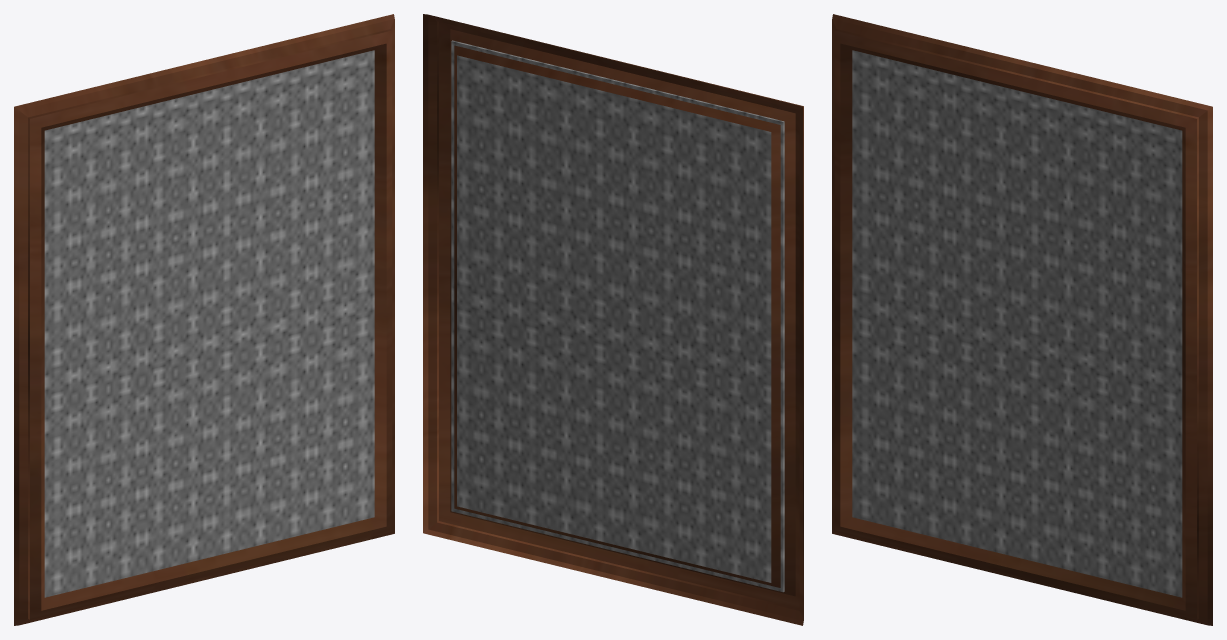
File: Picture_1.fbx
The picture shows the model from 3 angles, left to right: view 1: azimuth 30°, elevation 25°; view 2: azimuth 150°, elevation 25°; view 3: azimuth 330°, elevation 25°; orthographic projection.
Visible parts, largest first — view 1: polySurface3066, polySurface3065; view 2: polySurface3066, polySurface3065; view 3: polySurface3066, polySurface3065.
Boxes of the visible parts, x1=… form: polySurface3066: x1=44, y1=50, x2=374, y2=597; polySurface3065: x1=14, y1=14, x2=394, y2=625; polySurface3066: x1=451, y1=40, x2=784, y2=592; polySurface3065: x1=423, y1=14, x2=803, y2=625; polySurface3066: x1=852, y1=50, x2=1182, y2=597; polySurface3065: x1=832, y1=14, x2=1212, y2=625.
Size of the model in its own units: 185 by 241 by 8.29.
